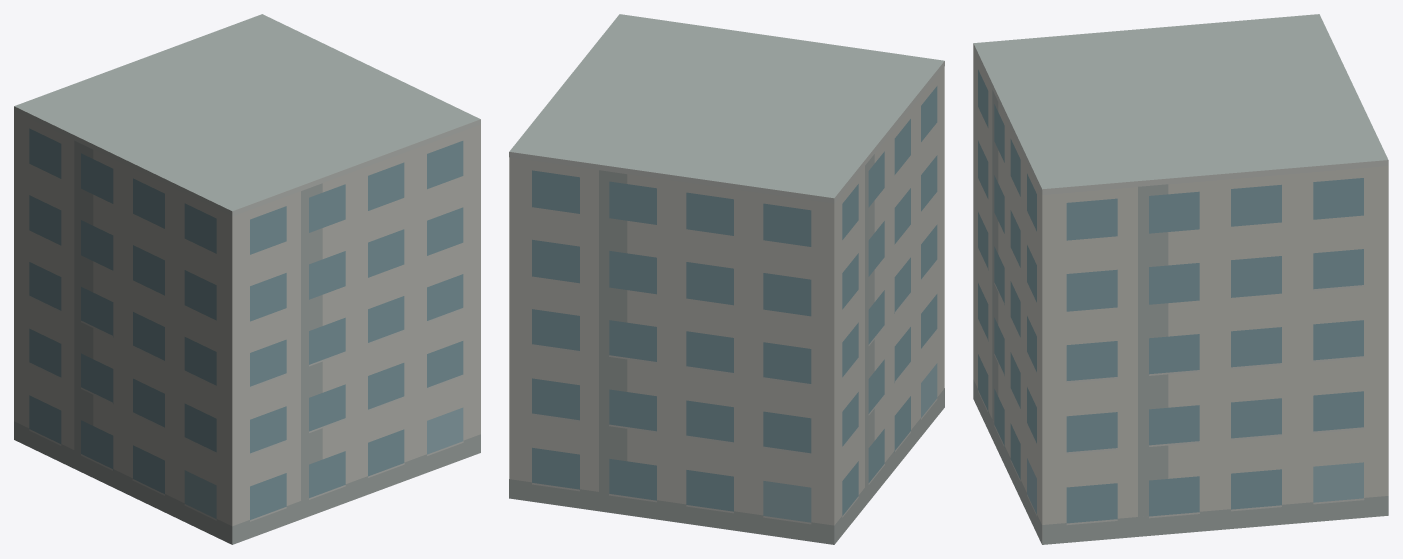
Rendered from residential-bb3a99f1-ada7-4633-9961-53edd6b4d707.glb.
3 renders of one model, left to right at view 1: azimuth 30°, elevation 25°; view 2: azimuth 150°, elevation 25°; view 3: azimuth 270°, elevation 25°, orthographic. The views are drawn at different scales.
Visible parts, largest first — view 1: residential-bb3a99f1-ada7-4633-9961-53edd6b4d707.tmp; view 2: residential-bb3a99f1-ada7-4633-9961-53edd6b4d707.tmp; view 3: residential-bb3a99f1-ada7-4633-9961-53edd6b4d707.tmp.
Boxes of the visible parts, left/top/right/bottom form: residential-bb3a99f1-ada7-4633-9961-53edd6b4d707.tmp: left=14, top=14, right=480, bottom=544; residential-bb3a99f1-ada7-4633-9961-53edd6b4d707.tmp: left=509, top=14, right=944, bottom=544; residential-bb3a99f1-ada7-4633-9961-53edd6b4d707.tmp: left=973, top=14, right=1388, bottom=544.
Size of the model in its own units: 16.12 by 15.25 by 16.14.
